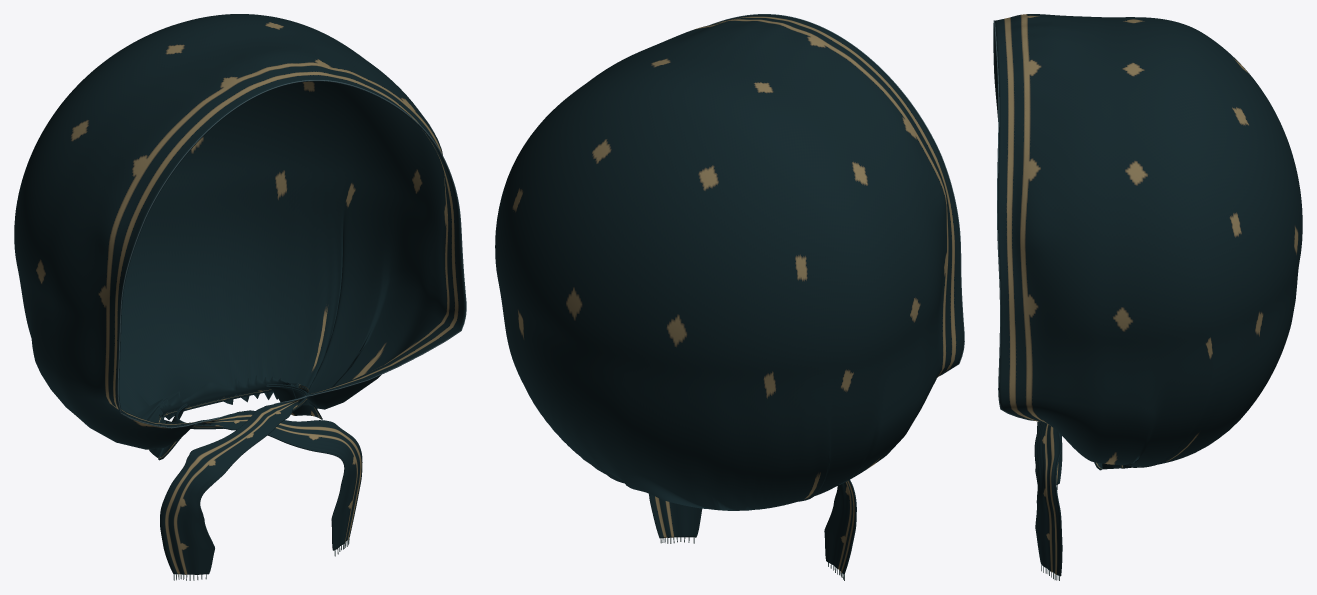
Rendered from Masculine-sidepart-shirtless-pashmina250-headgear.glb.
3 renders of one model, left to right at view 1: azimuth 30°, elevation 25°; view 2: azimuth 150°, elevation 25°; view 3: azimuth 270°, elevation 25°, orthographic. The views are drawn at different scales.
Parts seen in each view (by area): view 1: 226 headgear / Headwear / continuous woven pashmina239, 226 headgear / Headwear / face edge239; view 2: 226 headgear / Headwear / continuous woven pashmina239, 226 headgear / Headwear / face edge239; view 3: 226 headgear / Headwear / continuous woven pashmina239, 226 headgear / Headwear / face edge239.
Boxes of the visible parts, x1,y1,x2,y2 form: 226 headgear / Headwear / continuous woven pashmina239: (14, 14, 465, 574); 226 headgear / Headwear / face edge239: (117, 80, 466, 428); 226 headgear / Headwear / continuous woven pashmina239: (495, 14, 963, 574); 226 headgear / Headwear / face edge239: (710, 14, 964, 376); 226 headgear / Headwear / continuous woven pashmina239: (993, 14, 1302, 576); 226 headgear / Headwear / face edge239: (993, 20, 1033, 420).
Bounding box in the file's own units: 1.07 × 1.39 × 0.7681.
Materials: 3 (1 with a texture image).
